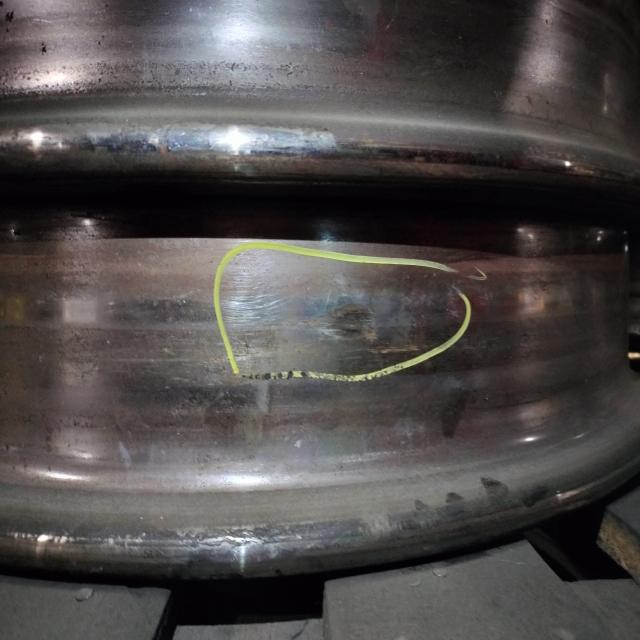flat: (285, 273, 427, 361)
